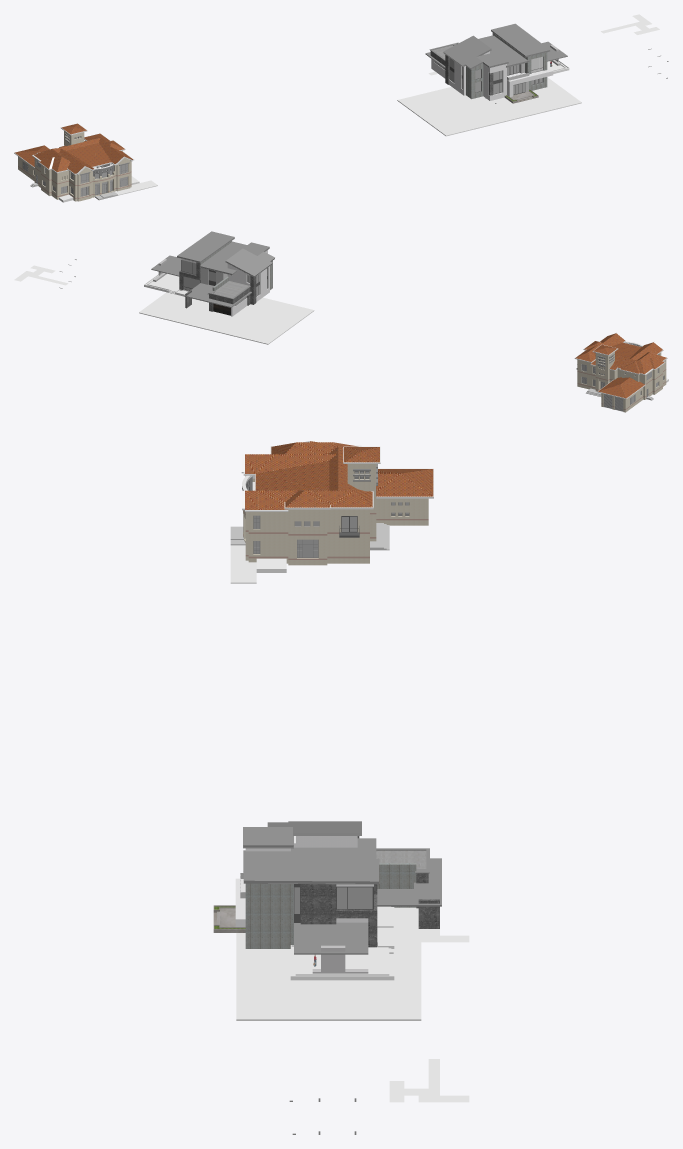
The model's file is modern_house_remodel (1).glb.
3 views of the same model, one above another, from view 1: azimuth 30°, elevation 25°; view 2: azimuth 150°, elevation 25°; view 3: azimuth 270°, elevation 25° (orthographic). The views are drawn at different scales.
Visible parts, largest first — view 1: Mesh274_FrontColor_0, Mesh73_Color_L25_0, Mesh223_Roofing_Tile_Spanish_0, Mesh243_Quartz_Light_Grey_0, Mesh283_Color_006_0, Mesh243_Concrete_Form_4x8_0, Mesh295_Color_006_0, Mesh258_Color_006_0, Mesh296_FrontColor_0, Mesh223_FrontColor_0, Mesh294_Color_006_0; view 2: Mesh274_FrontColor_0, Mesh73_Color_L25_0, Mesh223_Roofing_Tile_Spanish_0, Mesh283_Color_006_0, Mesh295_Color_006_0, Group89, Mesh258_Color_006_0, Mesh225_Roofing_Tile_Spanish_0, Mesh243_Quartz_Light_Grey_0, Mesh261_Color_006_0, Mesh280_Color_006_0, Mesh296_FrontColor_0 (+2 smaller); view 3: Mesh274_FrontColor_0, Mesh73_Color_L25_0, Mesh223_Roofing_Tile_Spanish_0, Mesh283_Color_006_0, Mesh243_Concrete_Form_4x8_0, Mesh280_Color_006_0, Mesh243_Quartz_Light_Grey_0, Mesh261_Color_006_0, Mesh225_Roofing_Tile_Spanish_0, Mesh258_Color_006_0, Group25, Mesh257_FrontColor_0 (+5 smaller).
Boxes of the visible parts, x1,y1,x2,y2 form: Mesh274_FrontColor_0: (397, 77, 581, 136); Mesh73_Color_L25_0: (18, 131, 131, 201); Mesh223_Roofing_Tile_Spanish_0: (34, 133, 132, 173); Mesh243_Quartz_Light_Grey_0: (449, 51, 553, 100); Mesh283_Color_006_0: (491, 23, 549, 57); Mesh243_Concrete_Form_4x8_0: (466, 34, 547, 99); Mesh295_Color_006_0: (443, 35, 491, 69); Mesh258_Color_006_0: (478, 35, 529, 67); Mesh296_FrontColor_0: (601, 14, 659, 34); Mesh223_FrontColor_0: (32, 133, 134, 174); Mesh294_Color_006_0: (476, 52, 508, 67); Mesh274_FrontColor_0: (139, 292, 314, 344); Mesh73_Color_L25_0: (577, 352, 666, 412); Mesh223_Roofing_Tile_Spanish_0: (575, 333, 666, 373); Mesh283_Color_006_0: (177, 231, 234, 262); Mesh295_Color_006_0: (225, 248, 274, 277); Group89: (209, 281, 250, 315); Mesh258_Color_006_0: (200, 241, 246, 275); Mesh225_Roofing_Tile_Spanish_0: (598, 377, 644, 398); Mesh243_Quartz_Light_Grey_0: (181, 250, 269, 301); Mesh261_Color_006_0: (183, 283, 251, 307); Mesh280_Color_006_0: (151, 255, 181, 276); Mesh296_FrontColor_0: (14, 265, 68, 285); Mesh274_FrontColor_0: (236, 907, 421, 1020); Mesh73_Color_L25_0: (243, 464, 428, 565); Mesh223_Roofing_Tile_Spanish_0: (245, 441, 372, 509); Mesh283_Color_006_0: (243, 858, 379, 884); Mesh243_Concrete_Form_4x8_0: (245, 883, 293, 948); Mesh280_Color_006_0: (294, 922, 368, 954); Mesh243_Quartz_Light_Grey_0: (235, 836, 373, 927); Mesh261_Color_006_0: (377, 858, 441, 906); Mesh225_Roofing_Tile_Spanish_0: (376, 469, 433, 496); Mesh258_Color_006_0: (243, 838, 376, 874); Group25: (300, 836, 359, 924); Mesh257_FrontColor_0: (296, 947, 394, 973).
Size of what is drawn, in the model's own units: 1722 by 202 by 313.
Materials: 38 (15 with a texture image).
